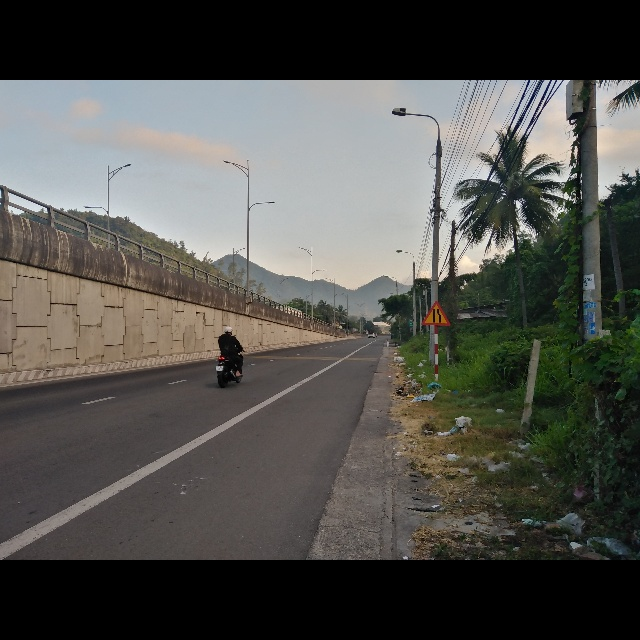Đường bị hẹp bên phải: (421, 299, 451, 326)
